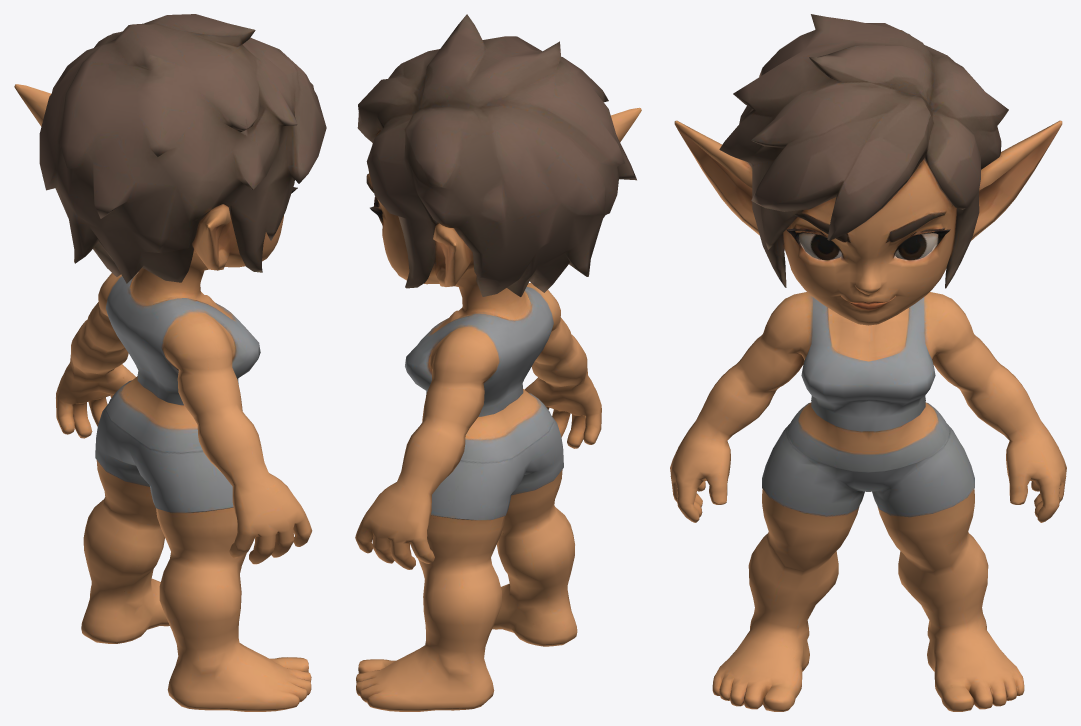
3 renders of one model, left to right at view 1: azimuth 30°, elevation 25°; view 2: azimuth 150°, elevation 25°; view 3: azimuth 270°, elevation 25°, orthographic. The views are drawn at different scales.
Visible parts, largest first — view 1: tripo_node_4b07e5ca; view 2: tripo_node_4b07e5ca; view 3: tripo_node_4b07e5ca.
Boxes of the visible parts, bbox=[...] form: tripo_node_4b07e5ca: bbox=[14, 14, 326, 711]; tripo_node_4b07e5ca: bbox=[355, 14, 641, 711]; tripo_node_4b07e5ca: bbox=[670, 14, 1066, 711].
Bounding box in the file's own units: 42.14 × 99.95 × 55.91.
Materials: 1 (1 with a texture image).
